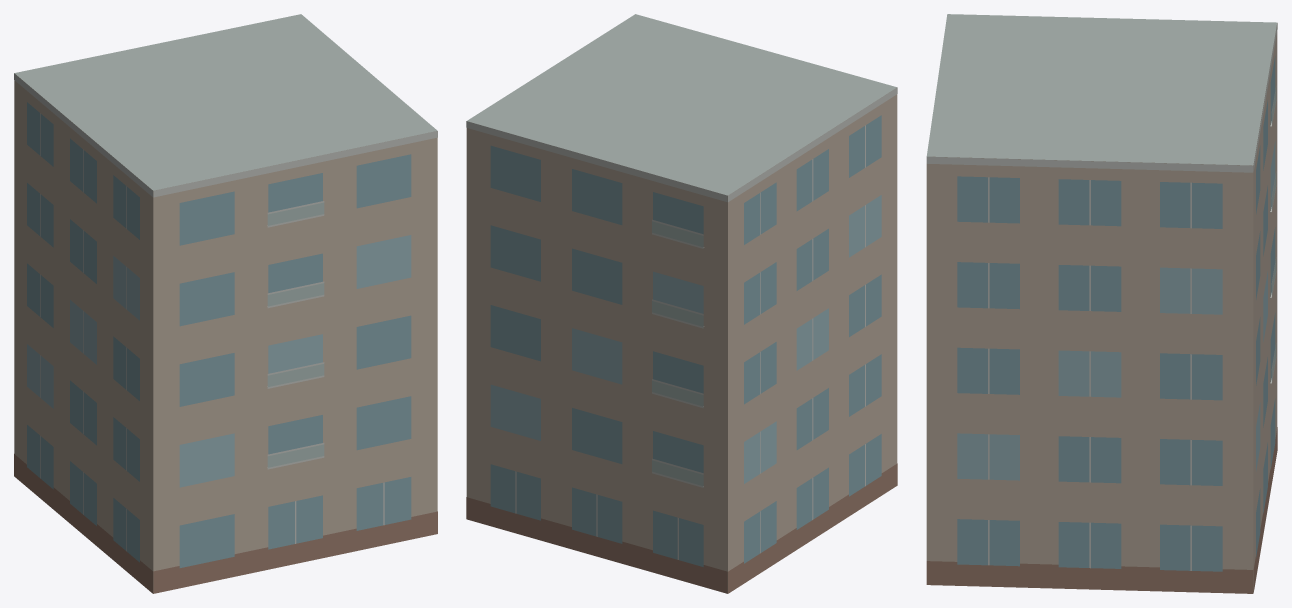
Rendered from survey-upis-32655657.glb.
The picture shows the model from 3 angles, left to right: view 1: azimuth 30°, elevation 25°; view 2: azimuth 150°, elevation 25°; view 3: azimuth 270°, elevation 25°; orthographic projection. The views are drawn at different scales.
Parts seen in each view (by area): view 1: survey-upis-32655657.tmp; view 2: survey-upis-32655657.tmp; view 3: survey-upis-32655657.tmp.
Part boxes in pixels (x1,y1,x2,y2): survey-upis-32655657.tmp: (14,14,437,593); survey-upis-32655657.tmp: (466,14,897,593); survey-upis-32655657.tmp: (926,14,1277,593).
Size of the model in its own units: 10.93 by 14.4 by 10.69.
